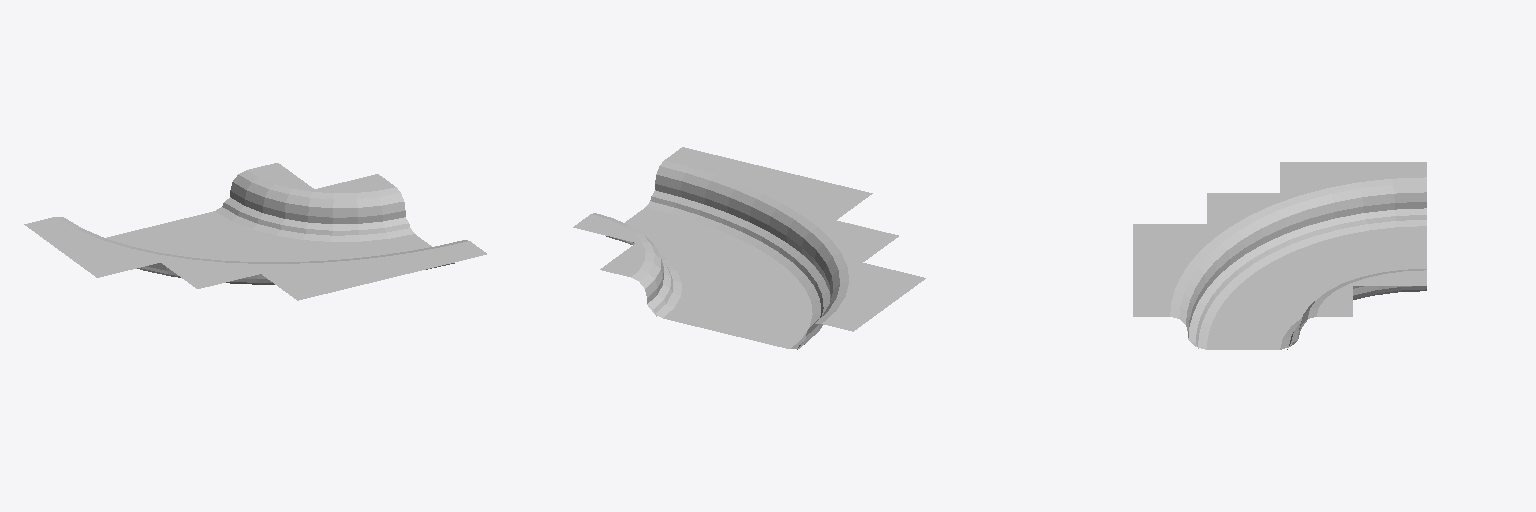
The model's file is Track_Striped_Curve_Widening_4x5.obj.
The picture shows the model from 3 angles: view 1: azimuth 30°, elevation 25°; view 2: azimuth 150°, elevation 25°; view 3: azimuth 270°, elevation 25°; orthographic projection.
Parts seen in each view (by area): view 1: Grass, Dirt, Raceline_Color_1, Raceline_Color_2; view 2: Grass, Dirt, Raceline_Color_1, Raceline_Color_2; view 3: Grass, Dirt, Raceline_Color_2, Raceline_Color_1.
Part boxes in pixels (left/top/right/bottom): Grass: left=24, top=163, right=486, bottom=300; Dirt: left=106, top=207, right=431, bottom=282; Raceline_Color_1: left=144, top=206, right=454, bottom=284; Raceline_Color_2: left=137, top=197, right=427, bottom=284; Grass: left=573, top=147, right=925, bottom=342; Dirt: left=613, top=201, right=820, bottom=348; Raceline_Color_1: left=606, top=190, right=829, bottom=311; Raceline_Color_2: left=627, top=197, right=828, bottom=349; Grass: left=1133, top=162, right=1426, bottom=338; Dirt: left=1190, top=220, right=1426, bottom=349; Raceline_Color_2: left=1190, top=208, right=1426, bottom=333; Raceline_Color_1: left=1188, top=210, right=1399, bottom=349.
Size of the model in its own units: 5 by 0.5 by 4.